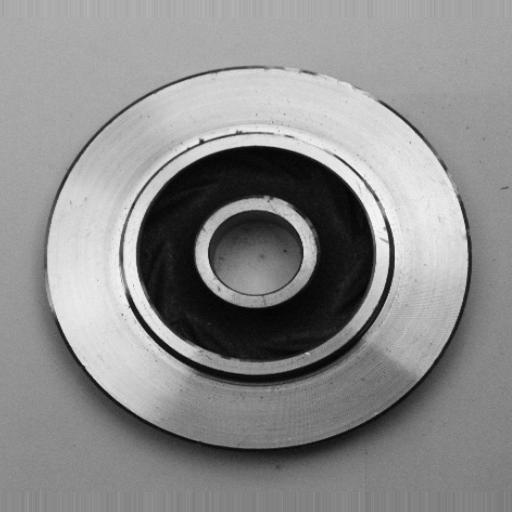scratch: (273, 52, 388, 106), (238, 121, 347, 156)
unpolished_casting: (43, 65, 471, 460)
